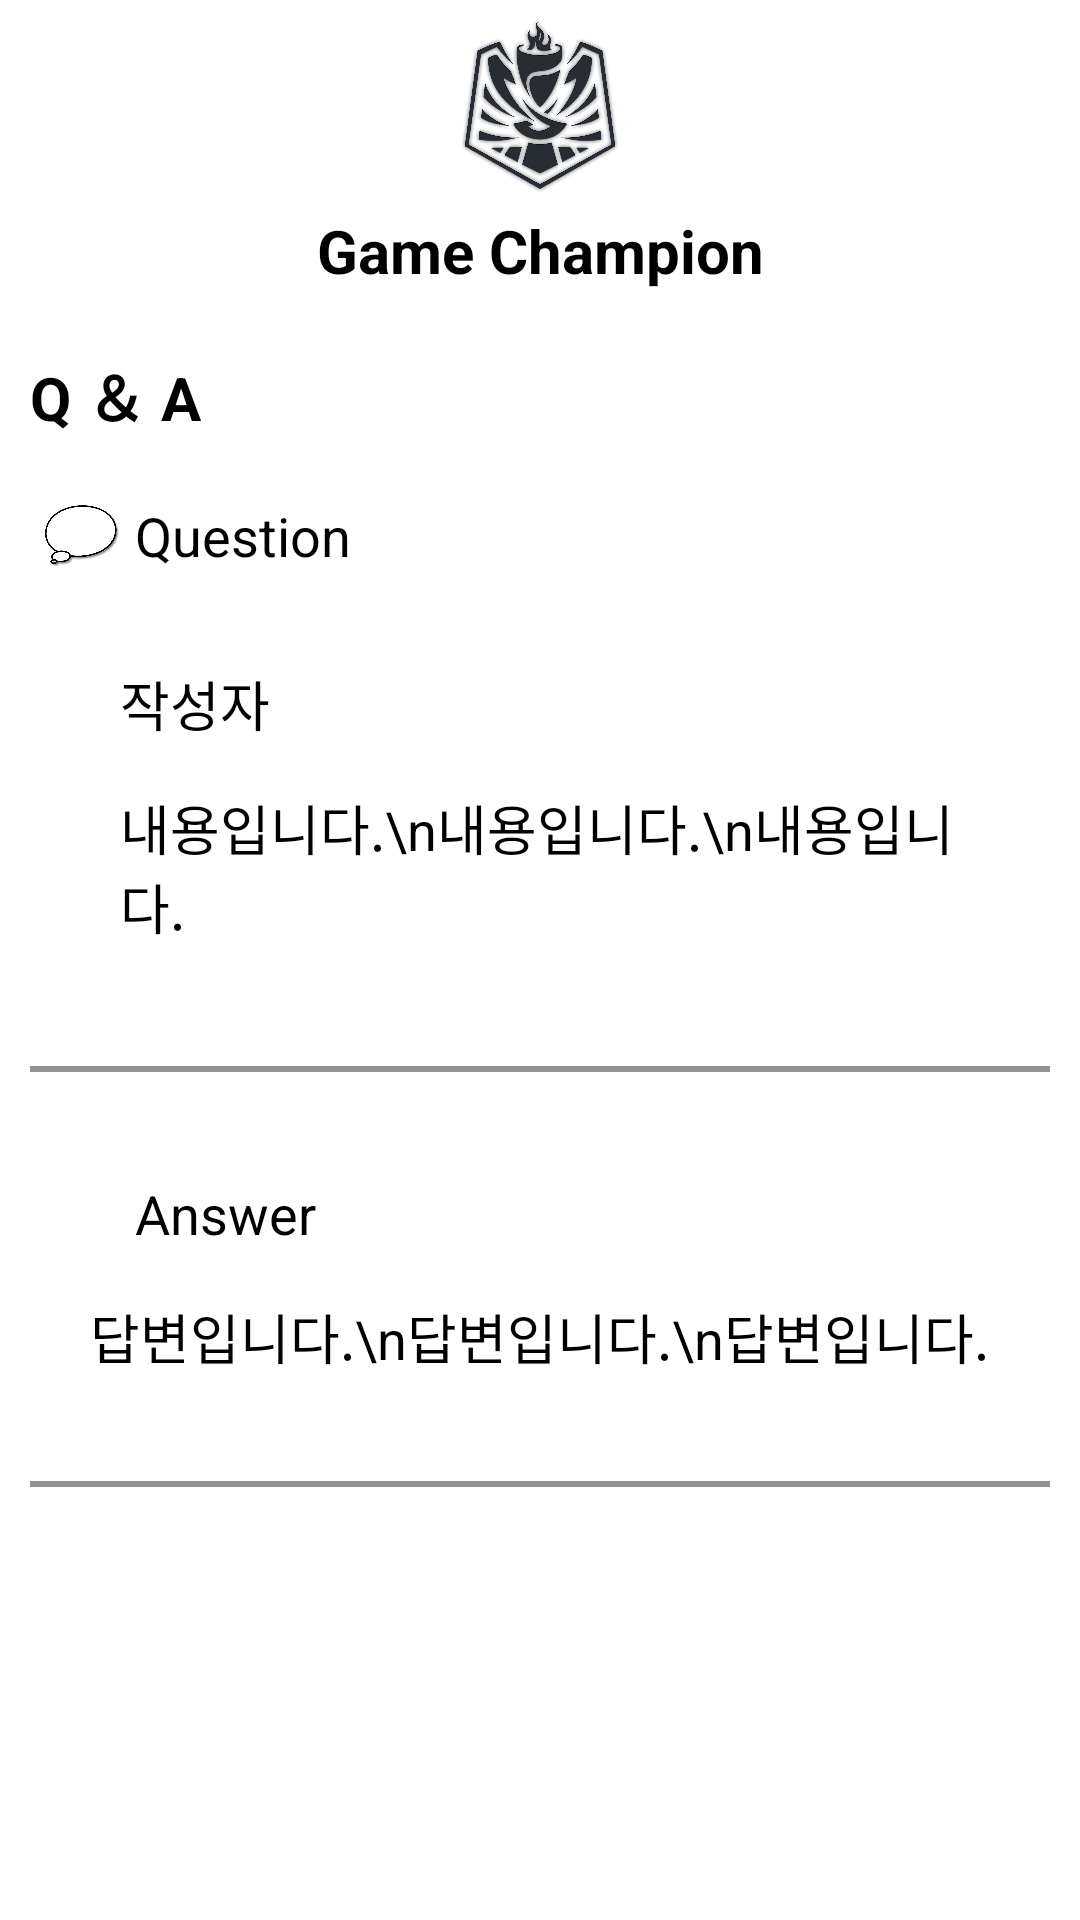

Where to tap for icons on this 1080×1920 app screen, as (x,y):
talkkk: (81,535)
